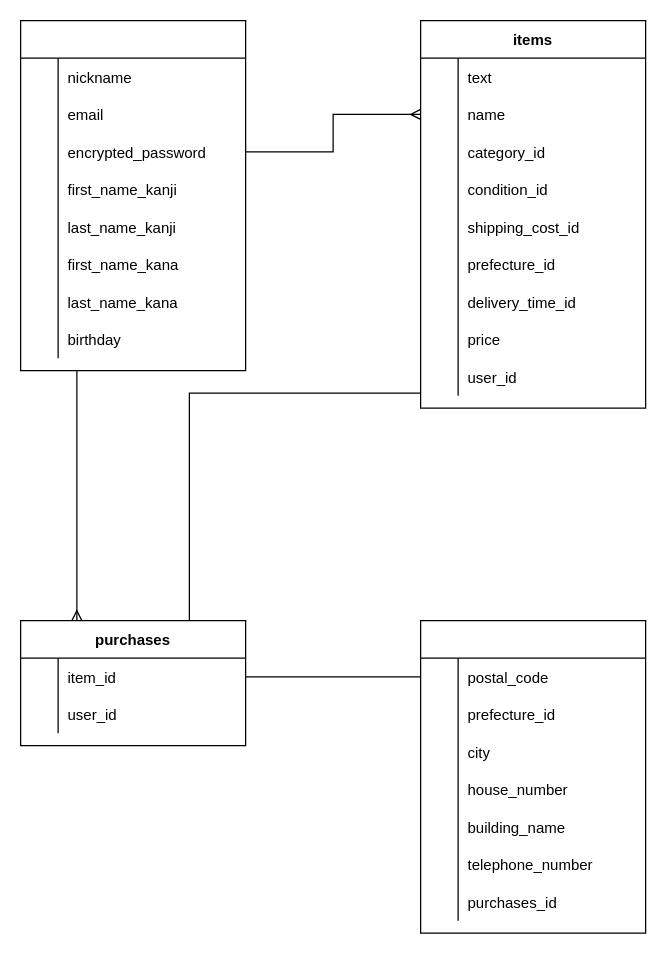
Image size: 666x954. Some labels were removed from this diagram. Each missing label, with the box of its shape:
addresses: (419, 619, 646, 933)
users: (19, 19, 246, 371)
